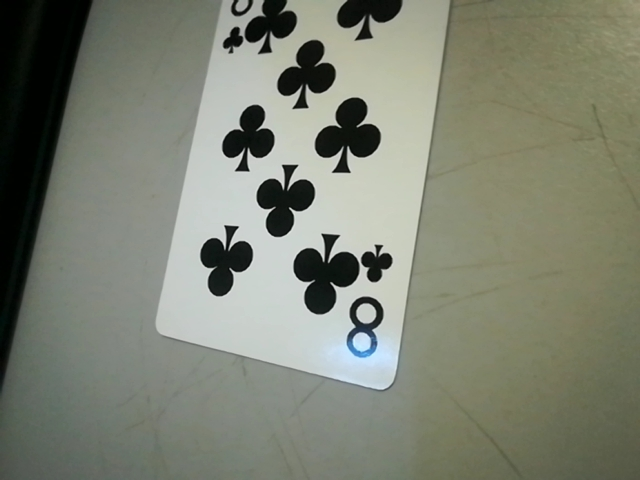mh 8: (344, 240, 400, 364)
